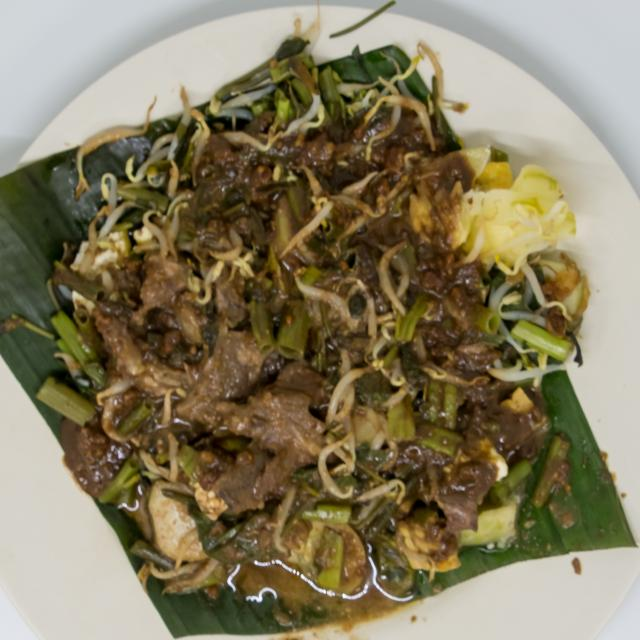Rujak-Cingur: (29, 54, 588, 581)
